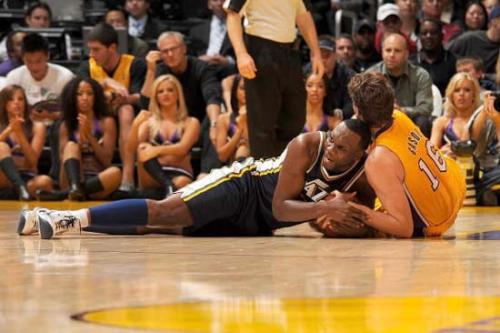10+: (1, 1, 500, 242)
down: (15, 116, 379, 240), (317, 67, 470, 237)
